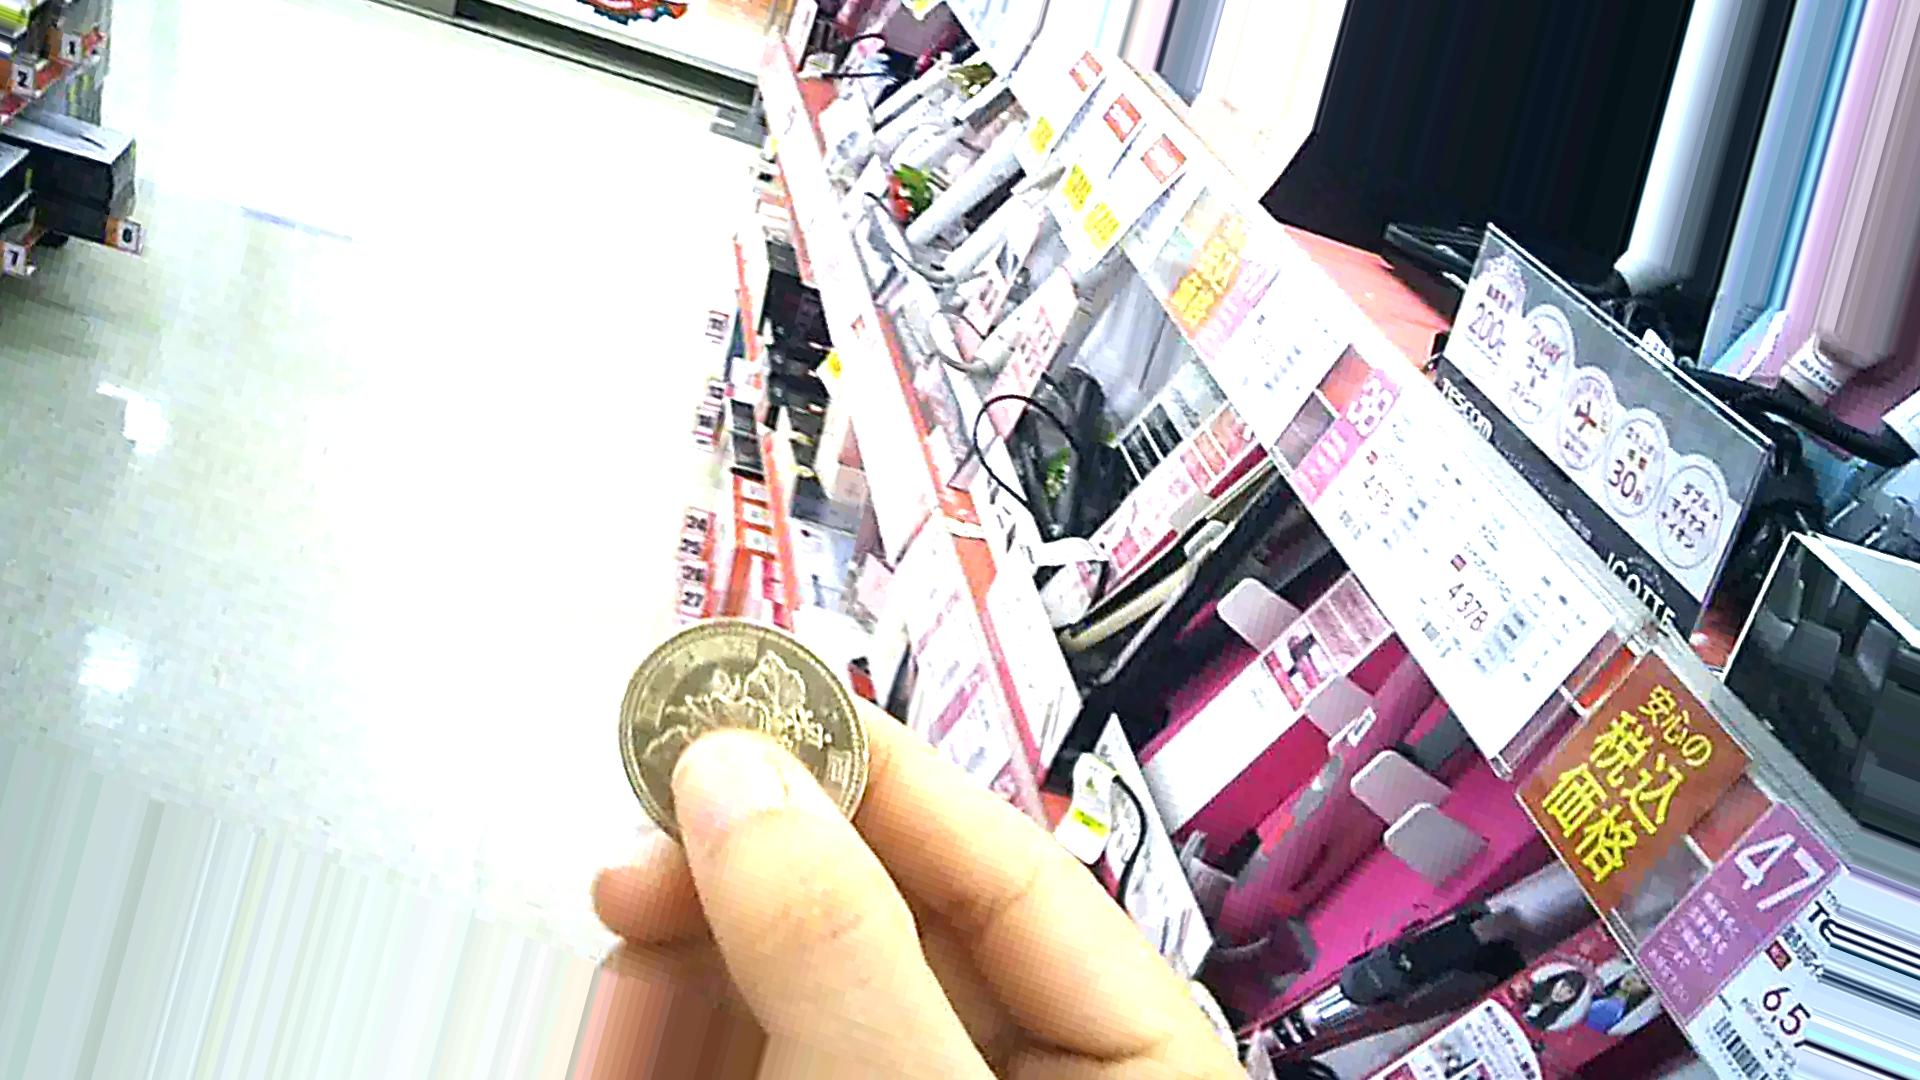500 Yen: (604, 611, 858, 874)
